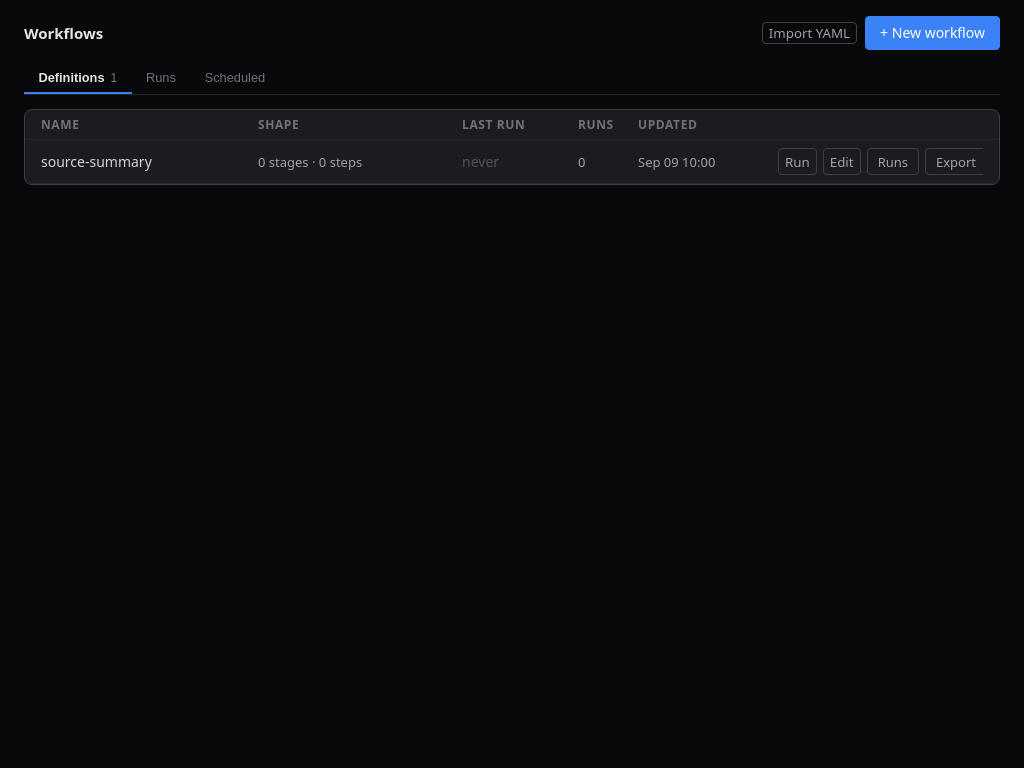
WorkflowsPage › Run opens the input form when the workflow declares inputs
The width and height of the screenshot is (1024, 768).
Expected: the text "source-summary" is shown, x1=41 y1=152 x2=152 y2=171
Click the button "Run". click: (797, 162)
box: x1=778 y1=148 x2=817 y2=175
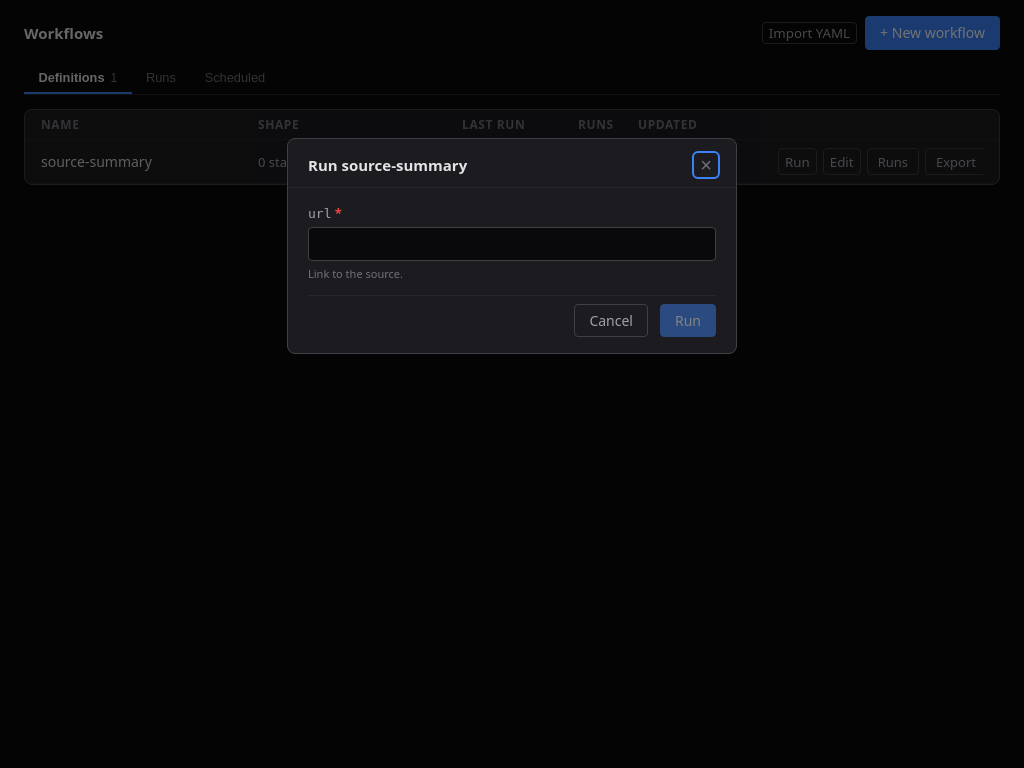
Result: the heading "Run source-summary" is shown at x1=308 y1=155 x2=467 y2=175
Result: the field named "url (required)" is shown at x1=308 y1=227 x2=716 y2=261
